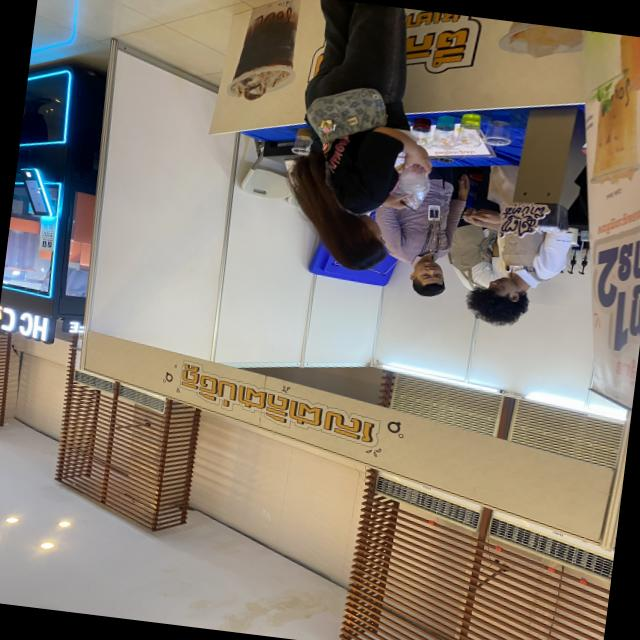503: (605, 289, 630, 359)
631: (593, 243, 617, 310)
Yolov11kh: (171, 351, 390, 457), (395, 23, 474, 69), (495, 199, 550, 222), (494, 213, 540, 240), (609, 240, 635, 283)
